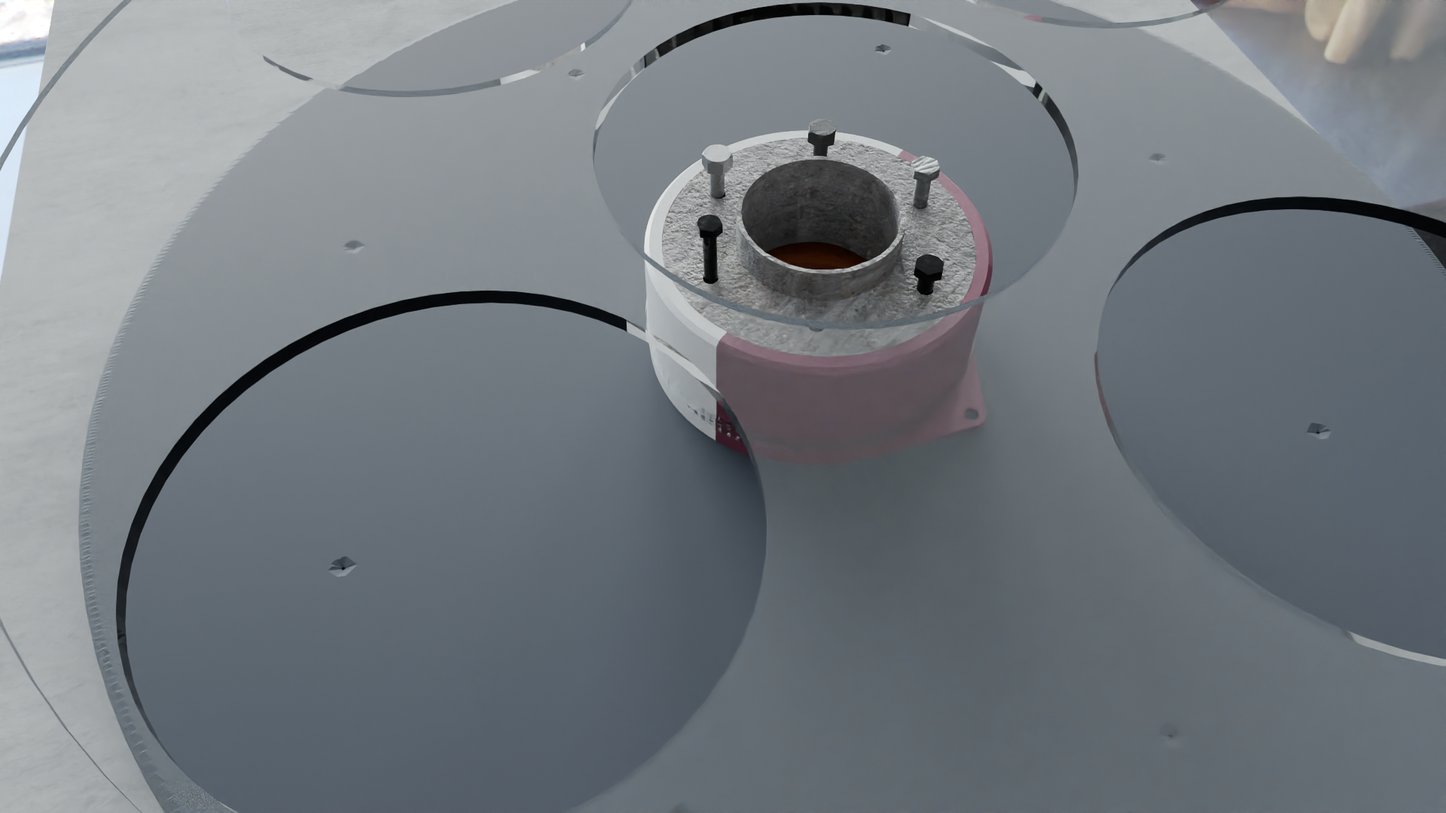bolt: (915, 254, 944, 276), (702, 145, 733, 165), (808, 119, 836, 139), (912, 156, 940, 175), (696, 215, 722, 233)
